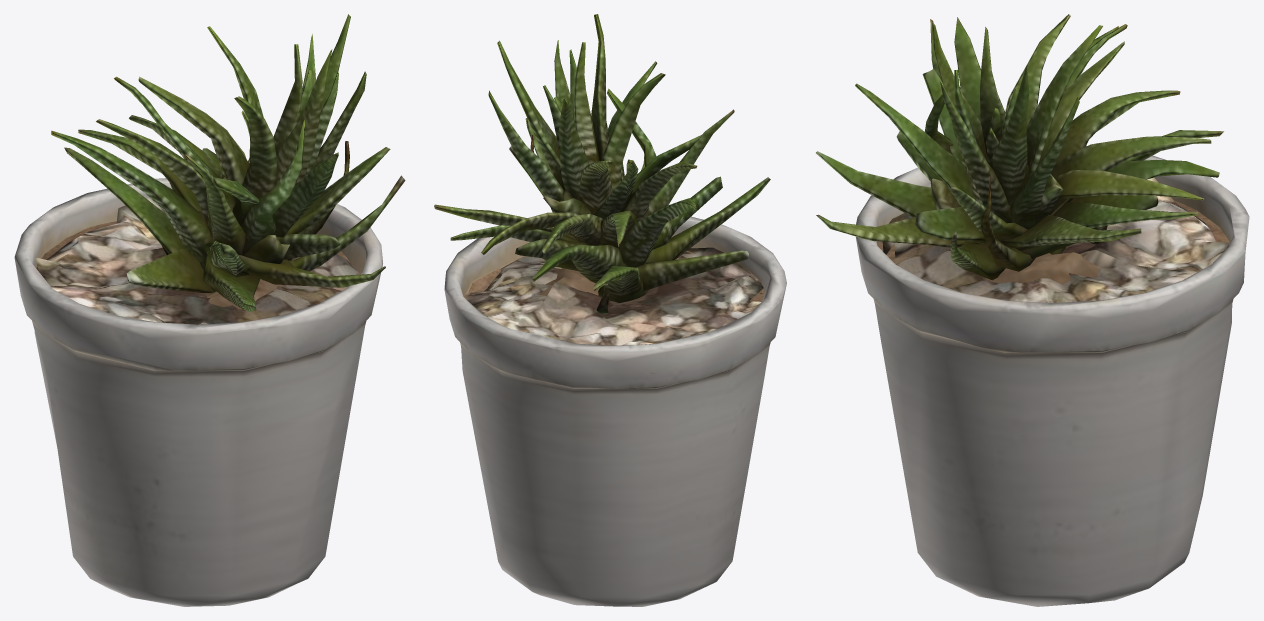
Rendered from potted_plant_04.gltf.
3 views of the same model, side by side, from view 1: azimuth 30°, elevation 25°; view 2: azimuth 150°, elevation 25°; view 3: azimuth 270°, elevation 25° (orthographic). The views are drawn at different scales.
Visible parts, largest first — view 1: pot, leaves; view 2: pot, leaves; view 3: pot, leaves.
Part boxes in pixels (x1,y1,x2,y2): pot: [14, 178, 382, 606]; leaves: [51, 14, 405, 311]; pot: [444, 216, 786, 606]; leaves: [434, 14, 770, 313]; pot: [856, 146, 1249, 606]; leaves: [816, 14, 1223, 280].
Bounding box in the file's own units: 0.1679 × 0.2671 × 0.1833.
Materials: 2 (2 with a texture image).
